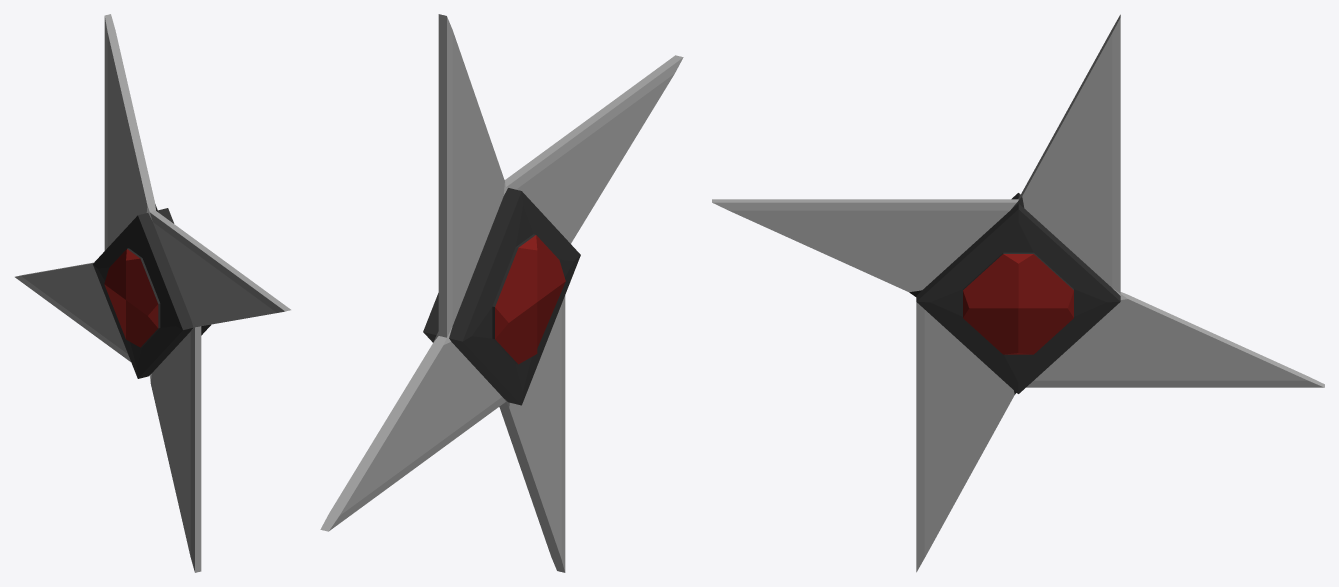
The model's file is Ninjastar.fbx.
The picture shows the model from 3 angles, left to right: view 1: azimuth 30°, elevation 25°; view 2: azimuth 150°, elevation 25°; view 3: azimuth 270°, elevation 25°; orthographic projection. The views are drawn at different scales.
Visible parts, largest first — view 1: Cube; view 2: Cube; view 3: Cube.
Part boxes in pixels (bbox=[...]): Cube: bbox=[15, 14, 290, 572]; Cube: bbox=[320, 14, 683, 572]; Cube: bbox=[712, 14, 1324, 572].
Size of the model in its own units: 68.95 by 600 by 600.
